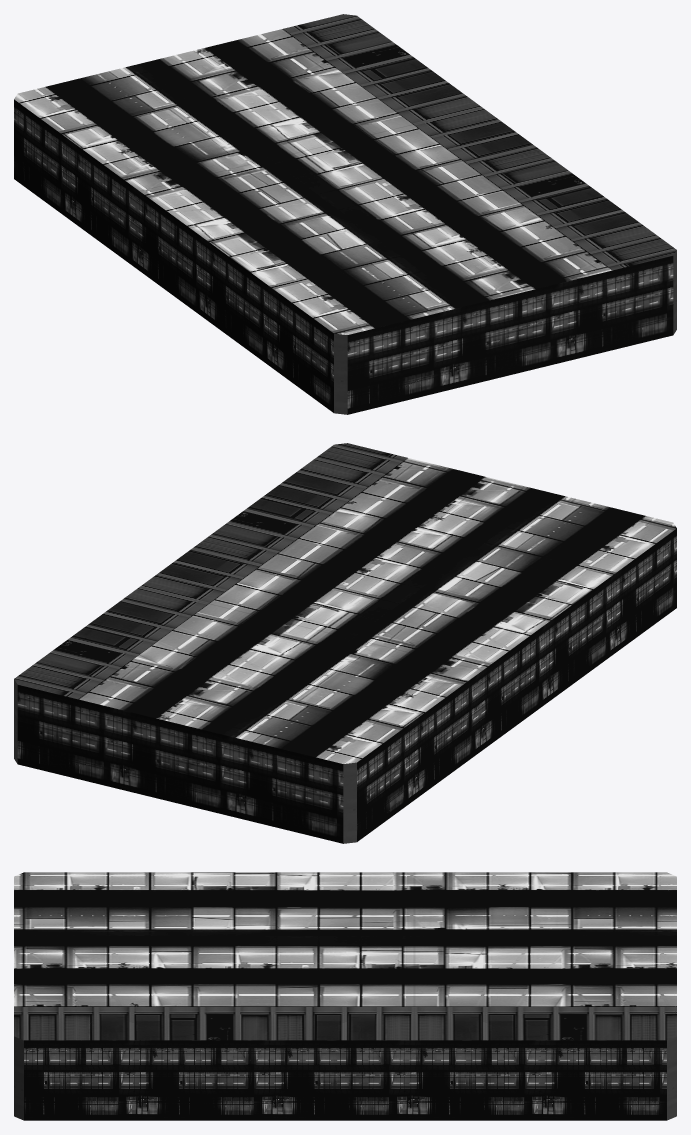
The model's file is Sm_BuildingFloorType1.FBX.
3 renders of one model, top to bottom at view 1: azimuth 30°, elevation 25°; view 2: azimuth 150°, elevation 25°; view 3: azimuth 270°, elevation 25°, orthographic.
Visible parts, largest first — view 1: SM_BuildingFloorType1; view 2: SM_BuildingFloorType1; view 3: SM_BuildingFloorType1.
Boxes of the visible parts, x1,y1,x2,y2 form: SM_BuildingFloorType1: (14,14,676,414); SM_BuildingFloorType1: (14,443,676,843); SM_BuildingFloorType1: (14,872,676,1120).
Bounding box in the file's own units: 1800 × 400 × 3000.
